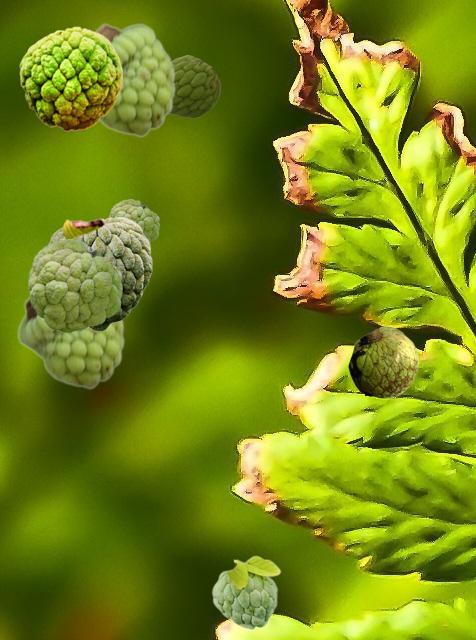atis: (47, 216, 151, 330), (19, 26, 121, 130), (17, 296, 124, 389), (94, 22, 175, 137), (28, 239, 121, 331), (211, 555, 280, 629), (348, 326, 417, 397), (170, 55, 219, 117), (108, 199, 158, 242)
